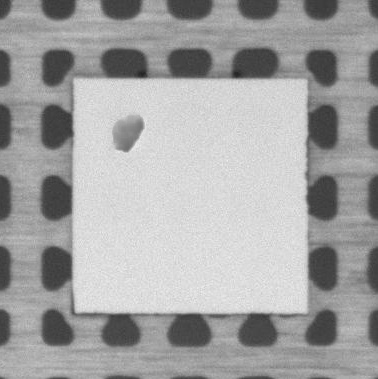DIE_INK: (103, 106, 153, 160)
